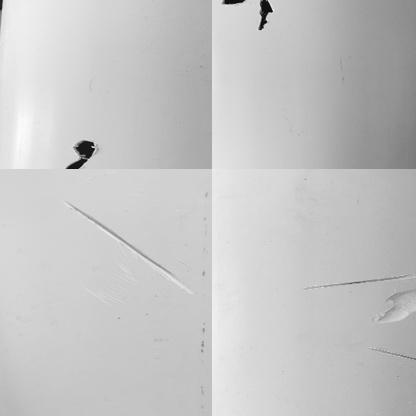kongdong: (66, 135, 102, 171), (257, 1, 276, 33), (219, 1, 245, 6)
sunshang: (62, 200, 193, 296), (301, 271, 416, 288), (372, 287, 416, 324), (371, 344, 414, 365)
